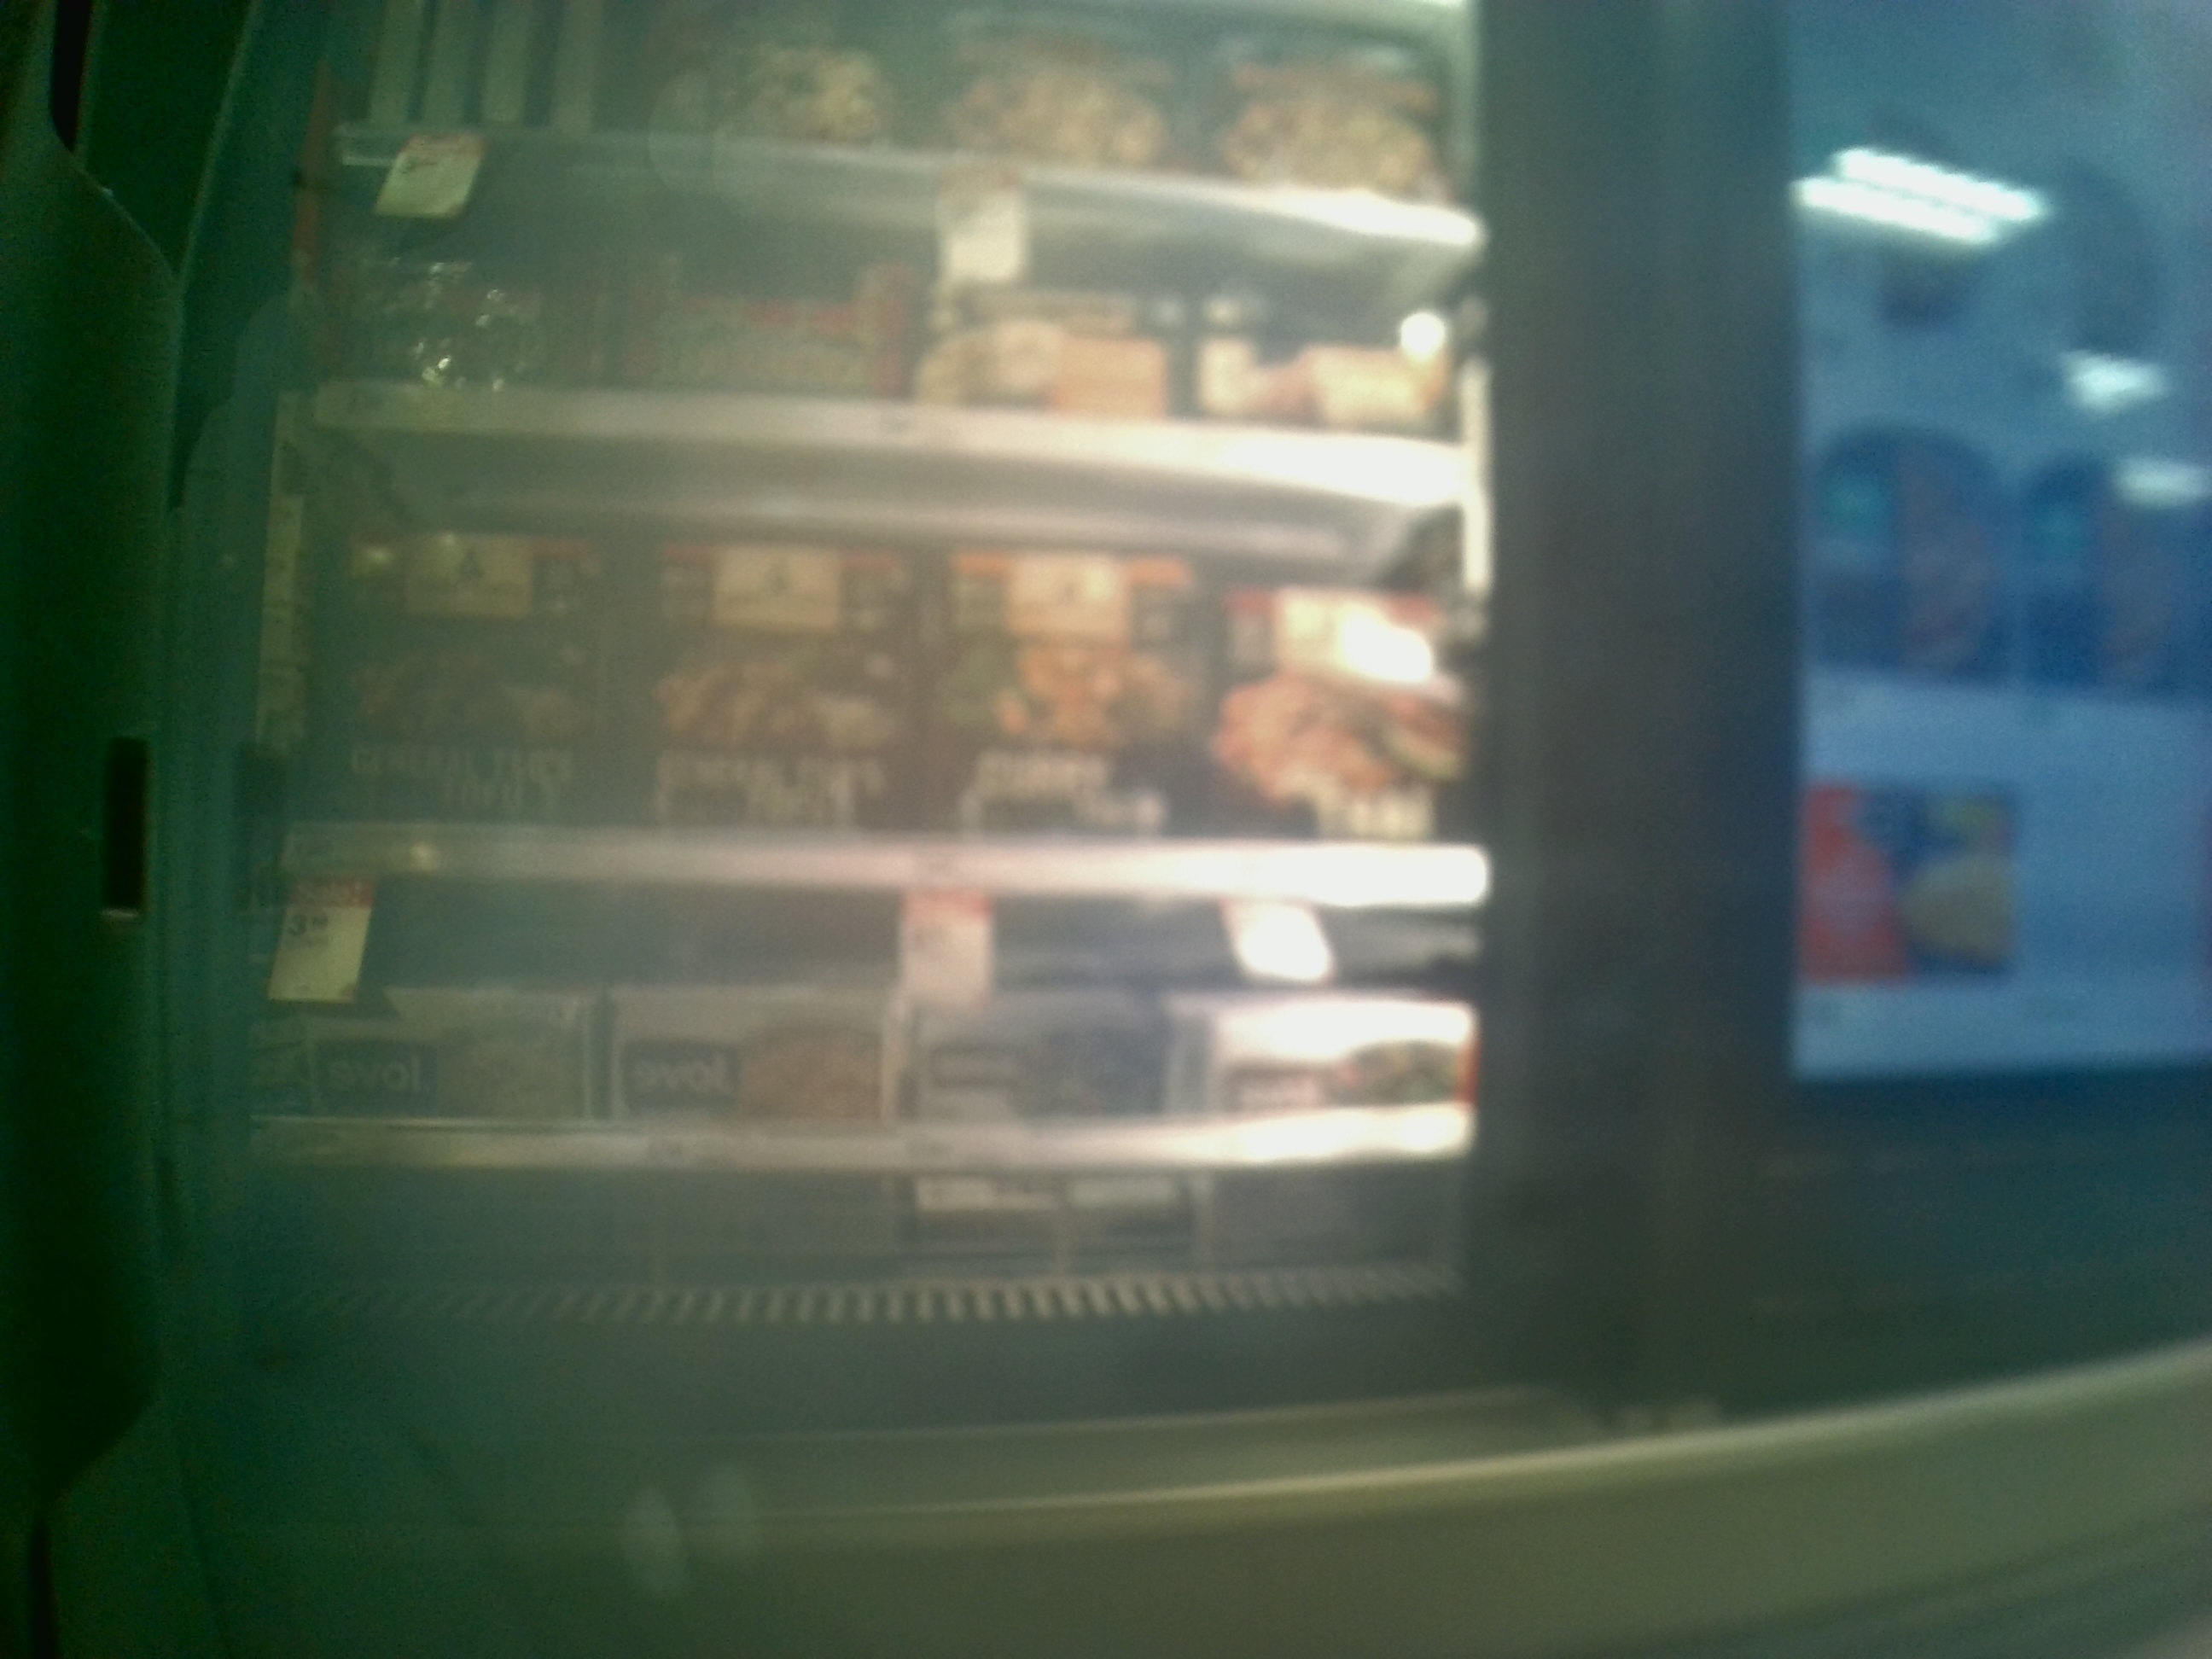frozen-food-shelf: (251, 507, 1498, 903), (240, 899, 1498, 1175)
